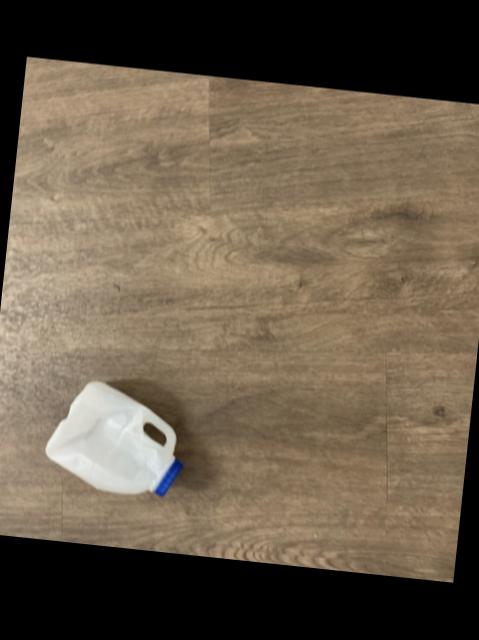plastic: (43, 380, 179, 495)
